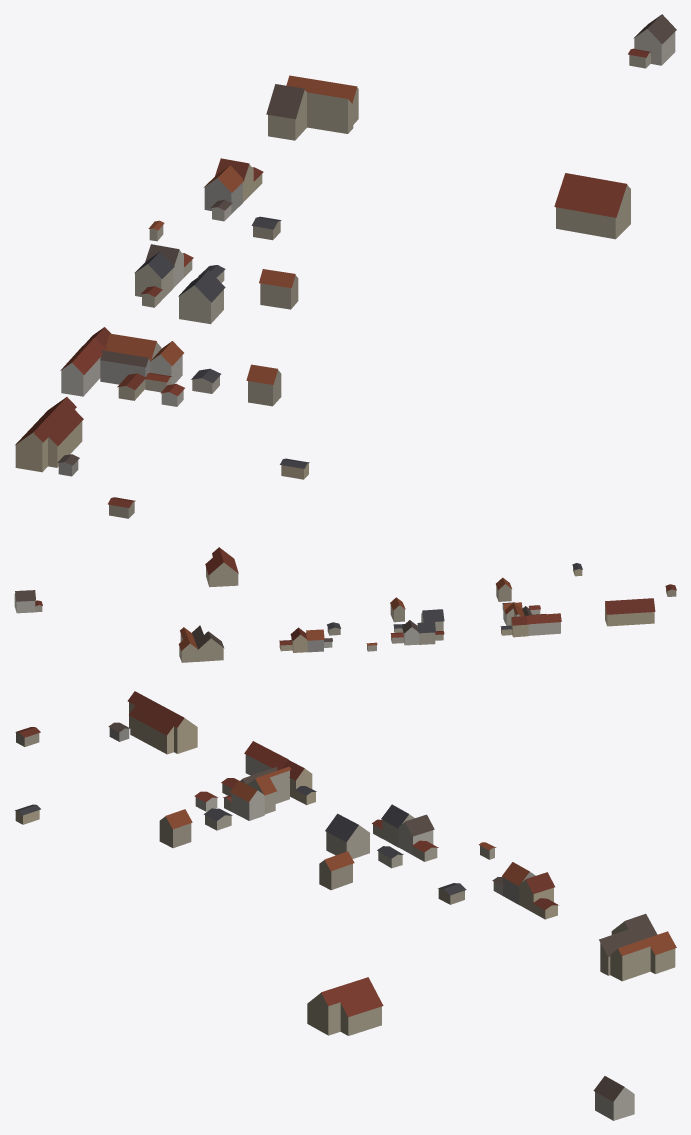
3 views of the same model, one above another, from view 1: azimuth 30°, elevation 25°; view 2: azimuth 150°, elevation 25°; view 3: azimuth 270°, elevation 25° (orthographic). The views are drawn at different scales.
Parts seen in each view (by area): view 1: buildings; view 2: buildings; view 3: buildings.
Boxes of the visible parts, left/top/right/bottom form: buildings: left=15, top=14, right=676, bottom=518; buildings: left=14, top=547, right=676, bottom=662; buildings: left=15, top=691, right=676, bottom=1120.
Bounding box in the file's own units: 256 × 14.57 × 179.
